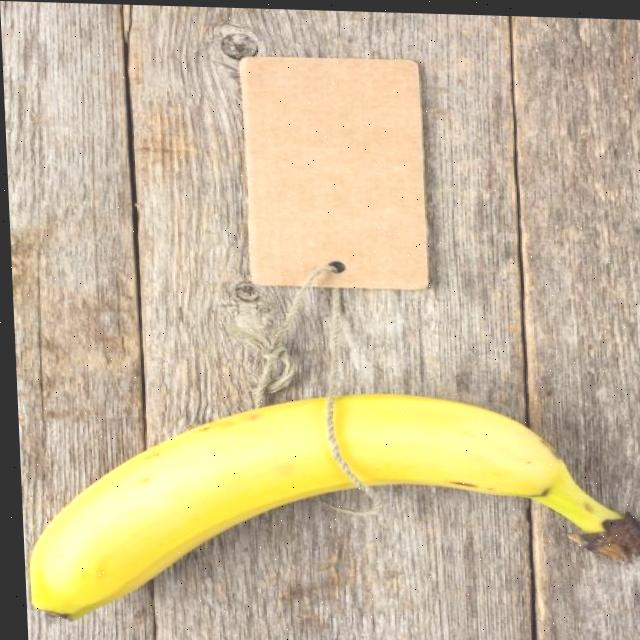banana: (17, 381, 640, 640)
